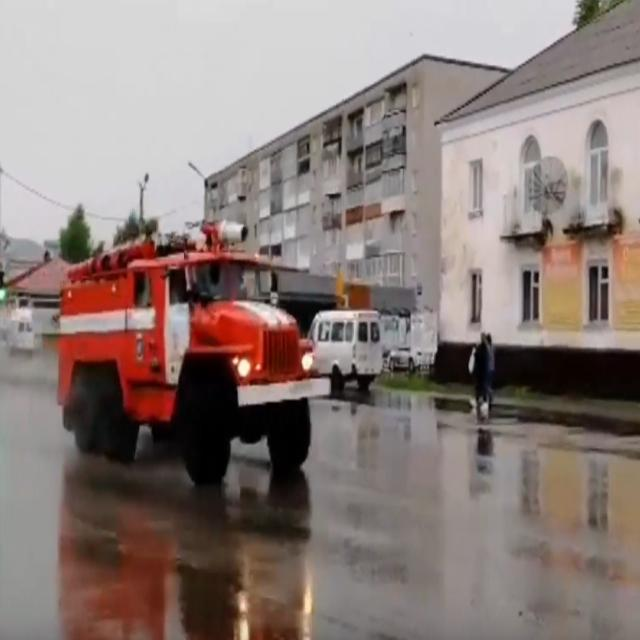fire fighting vehicle: (54, 214, 333, 493)
non emergency car: (306, 306, 385, 395)
